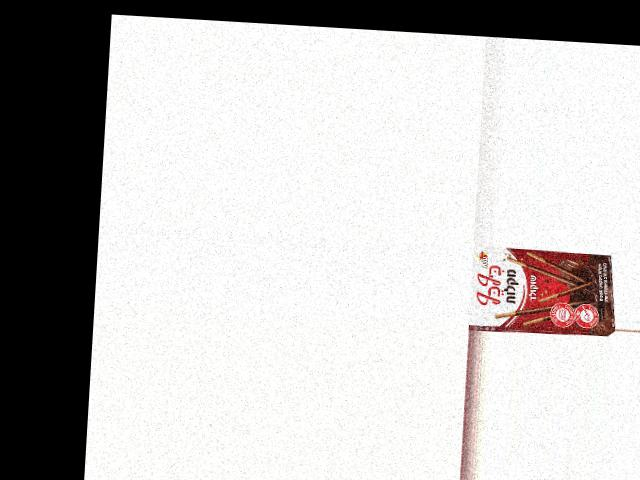chocolate: (468, 244, 610, 337)
